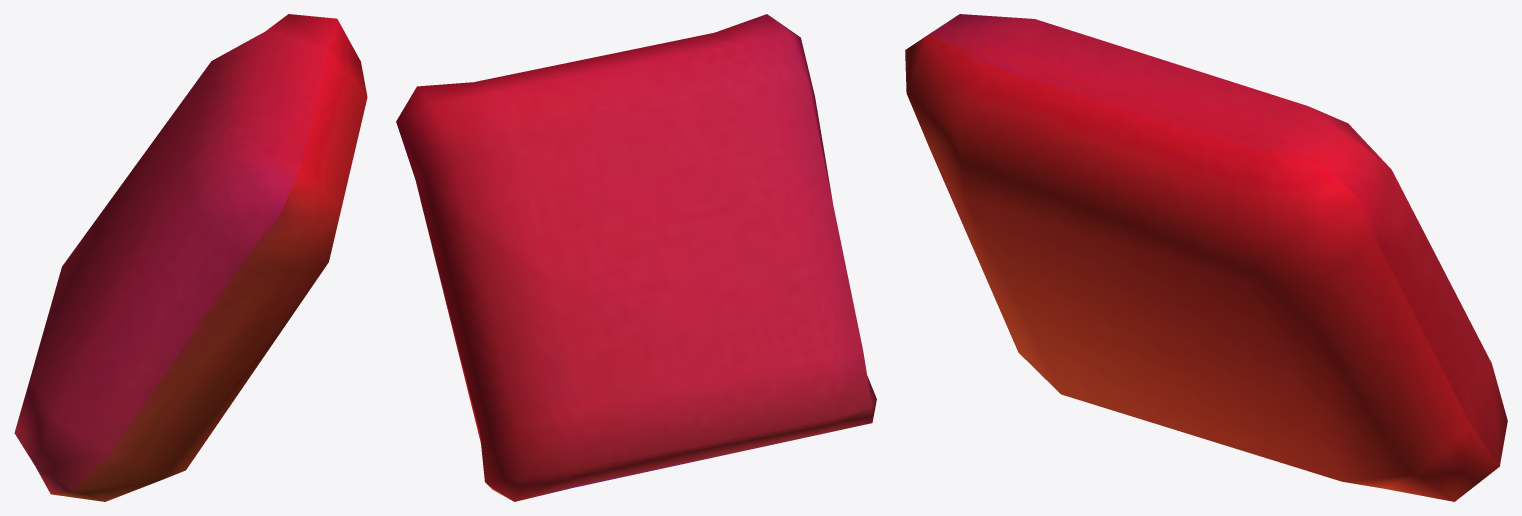
The model's file is cleanSofaCushion.glb.
3 renders of one model, left to right at view 1: azimuth 30°, elevation 25°; view 2: azimuth 150°, elevation 25°; view 3: azimuth 270°, elevation 25°, orthographic. The views are drawn at different scales.
Parts seen in each view (by area): view 1: cleanCushion; view 2: cleanCushion; view 3: cleanCushion.
Part boxes in pixels (x1=…): cleanCushion: x1=14, y1=14, x2=367, y2=501; cleanCushion: x1=396, y1=14, x2=876, y2=501; cleanCushion: x1=905, y1=14, x2=1507, y2=501.
Bounding box in the file's own units: 0.677 × 0.568 × 0.7136.
Materials: 1 (1 with a texture image).
